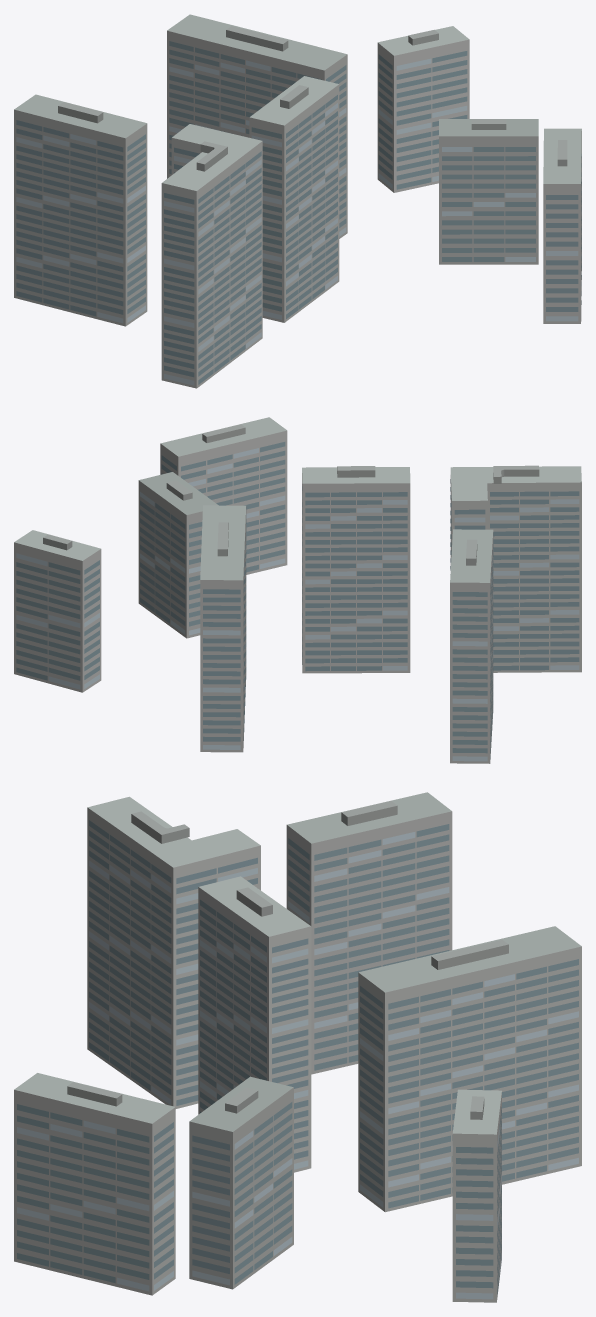
File: apt-a15192202.glb
3 views of the same model, one above another, from view 1: azimuth 30°, elevation 25°; view 2: azimuth 150°, elevation 25°; view 3: azimuth 270°, elevation 25° (orthographic). The views are drawn at different scales.
Visible parts, largest first — view 1: apt-a15192202; view 2: apt-a15192202; view 3: apt-a15192202.
Boxes of the visible parts, x1,y1,x2,y2 form: apt-a15192202: [14, 14, 581, 388]; apt-a15192202: [14, 417, 581, 763]; apt-a15192202: [14, 792, 581, 1302].
Bounding box in the file's own units: 160 × 67 × 137.
